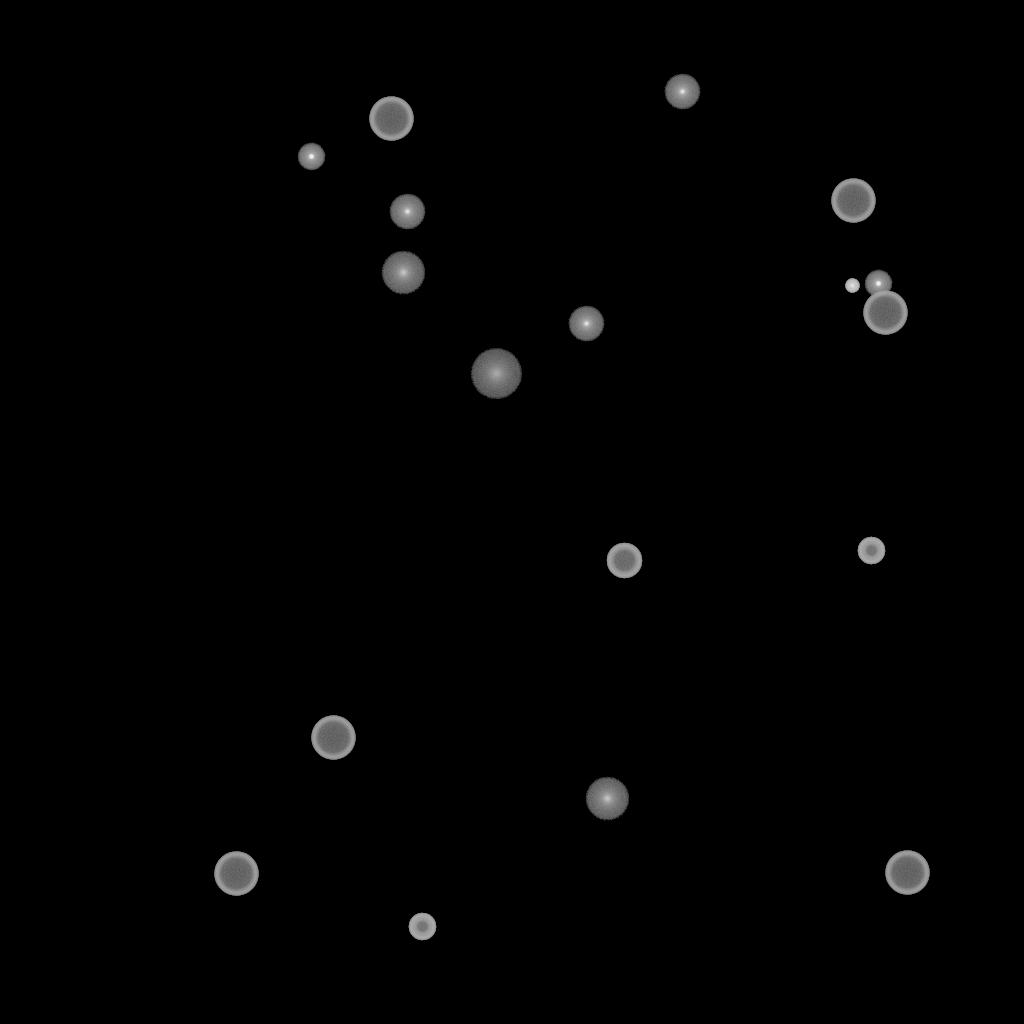depth:-10: (864, 270, 892, 298), (297, 143, 325, 171)
depth:-30: (845, 279, 859, 293)
depth:-50: (857, 537, 885, 565), (408, 913, 436, 941)
depth:-60: (606, 543, 642, 579)
depth:-70: (831, 179, 875, 223), (214, 852, 258, 896), (863, 291, 907, 335), (311, 716, 355, 760), (369, 97, 413, 141), (885, 851, 929, 895)
depth:0: (568, 306, 604, 342), (389, 194, 425, 230), (664, 74, 700, 110)
depth:10: (381, 251, 425, 295), (585, 777, 629, 821)
depth:20: (470, 349, 522, 399)
